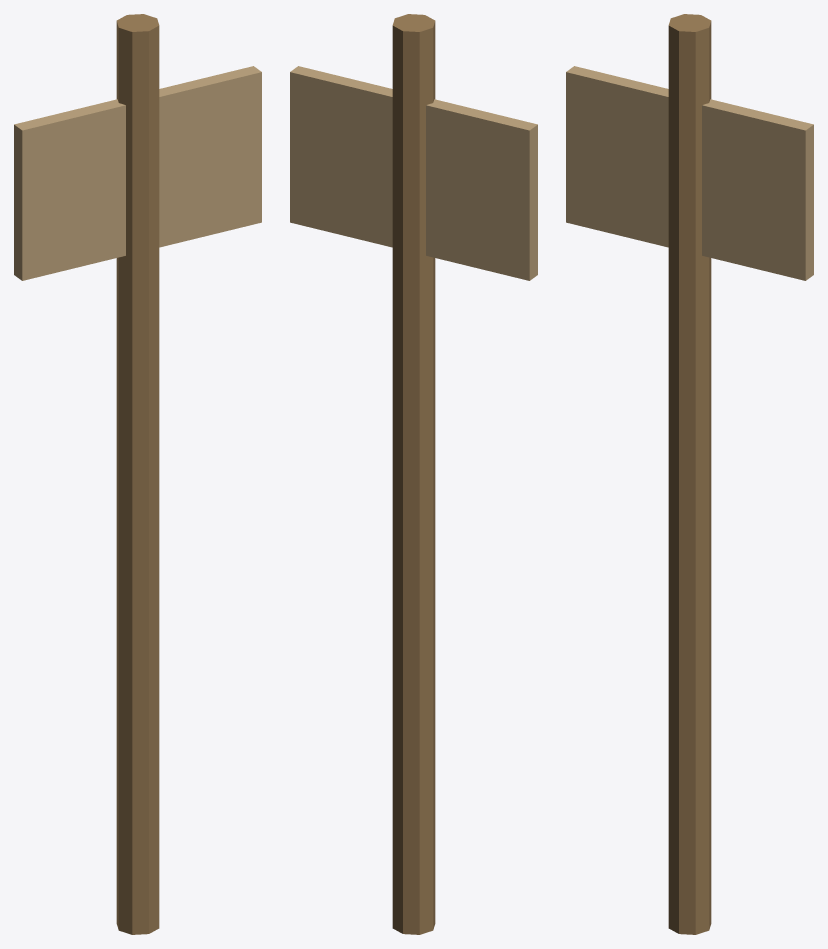
File: sign_post_1.glb
3 renders of one model, left to right at view 1: azimuth 30°, elevation 25°; view 2: azimuth 150°, elevation 25°; view 3: azimuth 330°, elevation 25°, orthographic.
Visible parts, largest first — view 1: sign_post_1_post, sign_post_1_board; view 2: sign_post_1_post, sign_post_1_board; view 3: sign_post_1_post, sign_post_1_board.
Part boxes in pixels (<box>): sign_post_1_post: <box>116,14,159,934</box>; sign_post_1_board: <box>14,66,261,280</box>; sign_post_1_post: <box>392,14,435,934</box>; sign_post_1_board: <box>290,66,537,280</box>; sign_post_1_post: <box>668,14,711,934</box>; sign_post_1_board: <box>566,66,813,280</box>.
Size of the model in its own units: 0.5 by 1.8 by 0.08.
